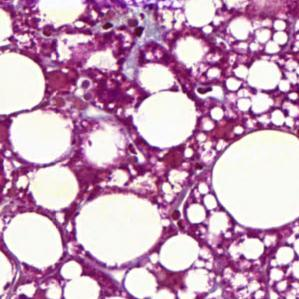steatosis: (76, 194, 163, 263), (2, 208, 66, 273), (7, 107, 75, 161), (132, 93, 200, 146), (28, 168, 82, 208)
